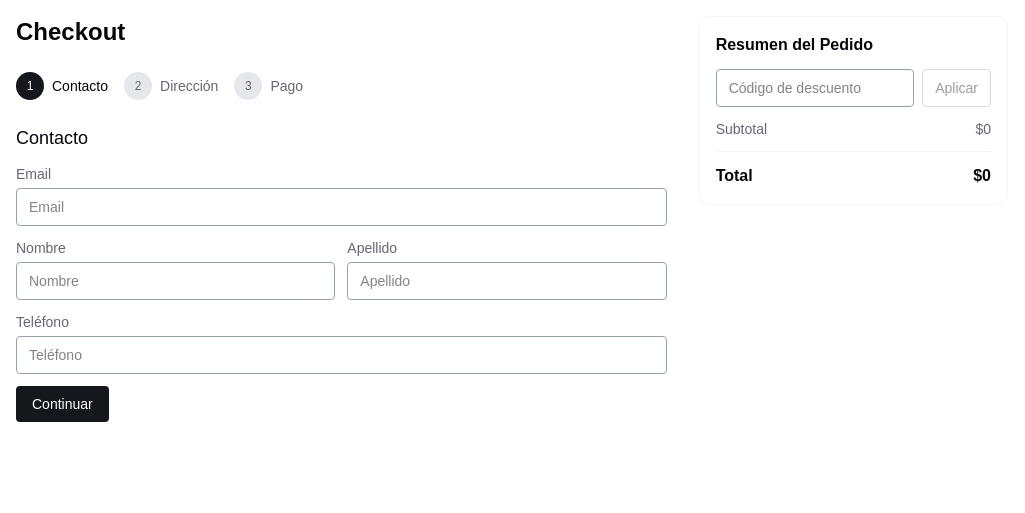
Test: Checkout page › advances to the address step and back to contact
The image size is (1025, 513).
Type "cliente@test.local" into the field with placeholder "Email" at (341, 207), box left=16, top=188, right=667, bottom=226
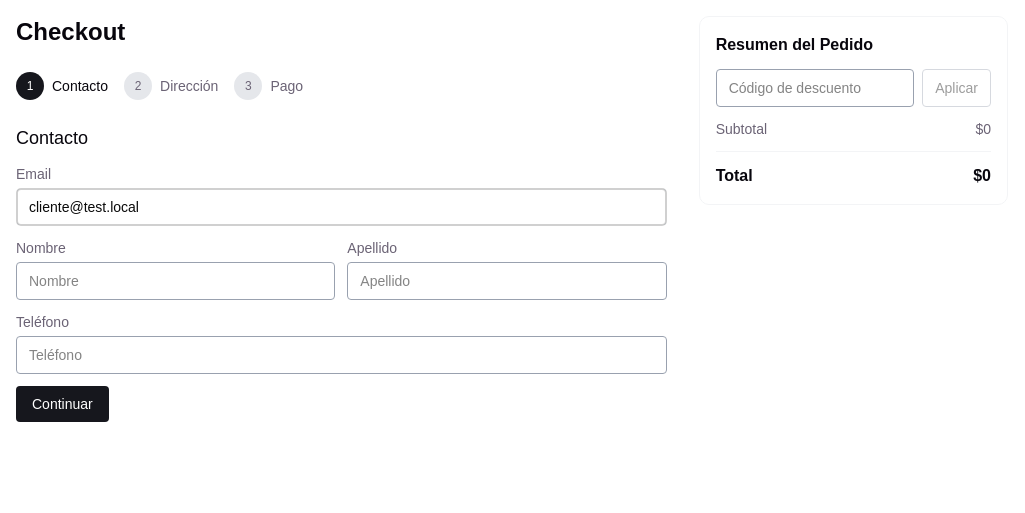
Type "Juan" into the field with placeholder "Nombre" at (176, 281), box left=16, top=262, right=335, bottom=300
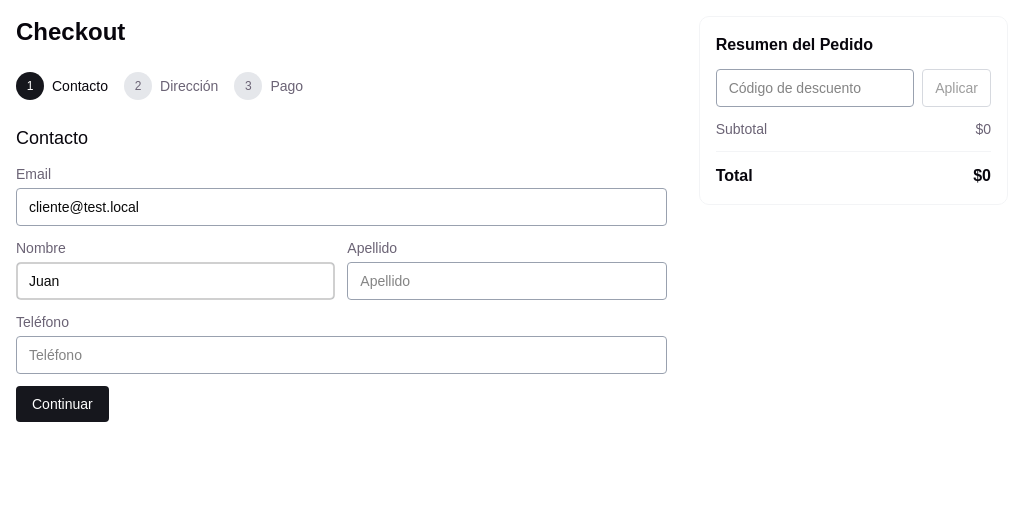
Type "Pérez" into the field with placeholder "Apellido" at (507, 281), box left=347, top=262, right=667, bottom=300
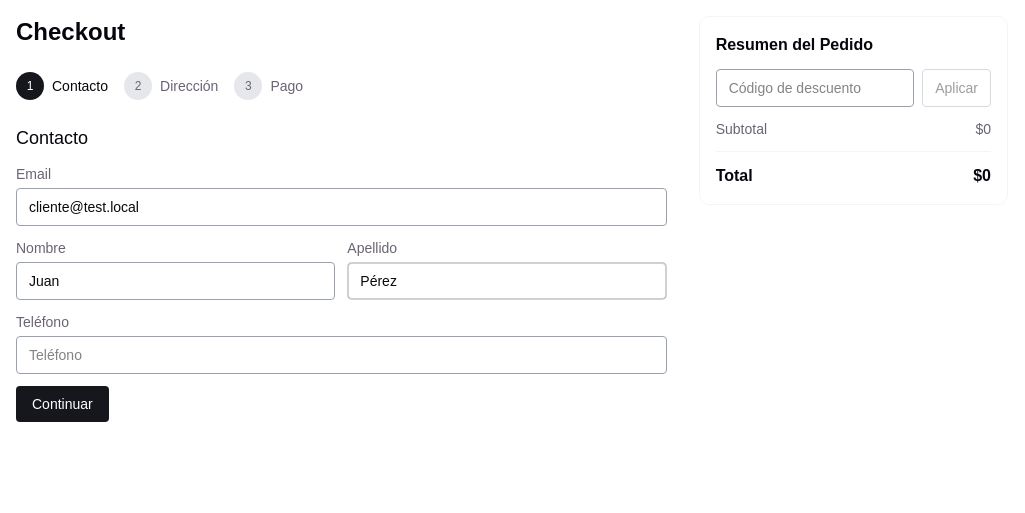
Type "+56911111111" into the field with placeholder "Teléfono" at (341, 355), box left=16, top=336, right=667, bottom=374
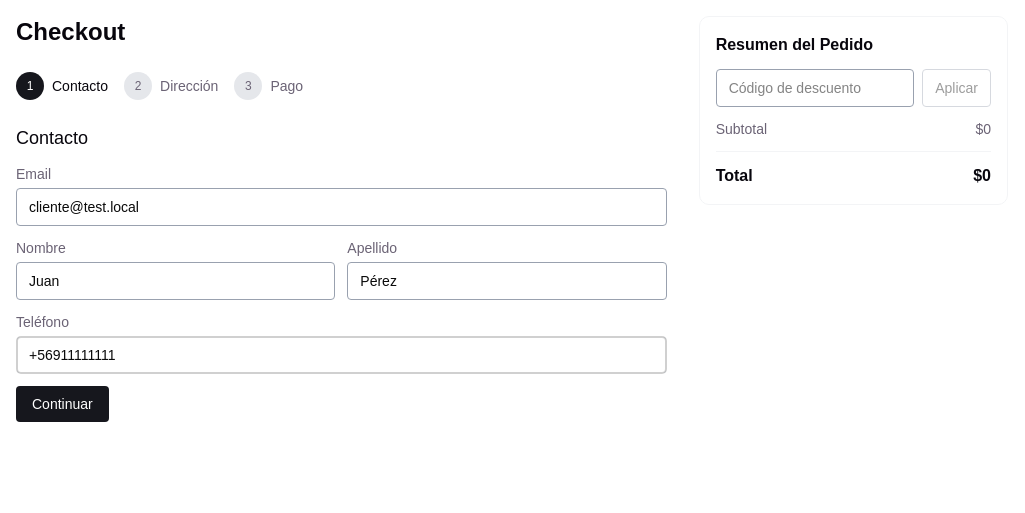
Click the button "Continuar" at (62, 404), box left=16, top=386, right=109, bottom=422
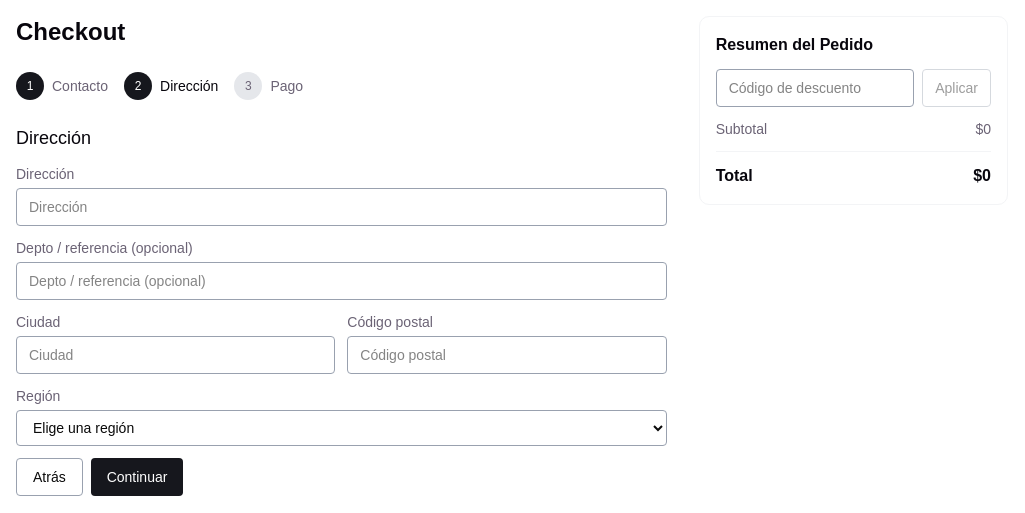
Result: the field with placeholder "Dirección" is shown at left=16, top=188, right=667, bottom=226
Click the button "Atrás" at (49, 477), box left=16, top=458, right=83, bottom=496
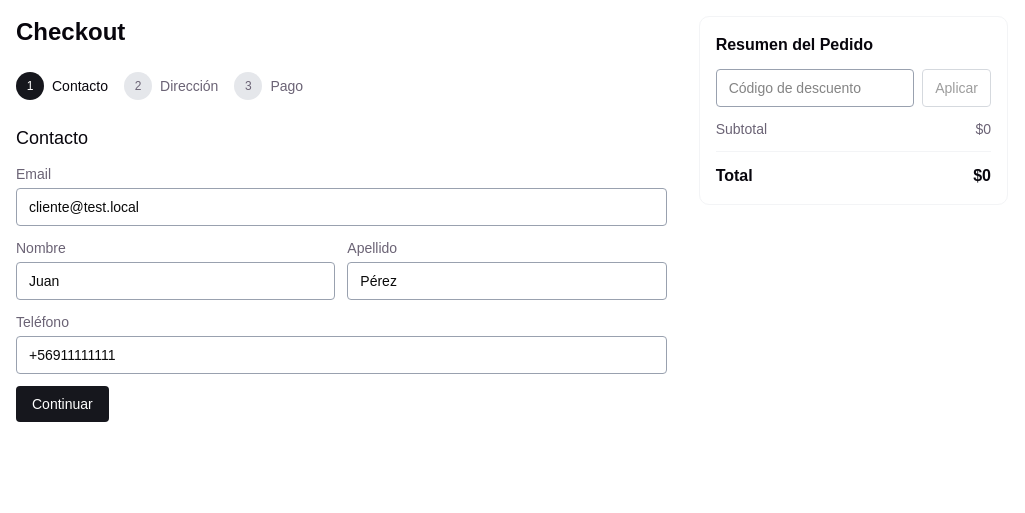
Result: the field with placeholder "Email" is shown at left=16, top=188, right=667, bottom=226
